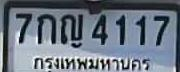1: (135, 15, 145, 44), (115, 14, 124, 44)
4: (91, 14, 107, 44)
7: (15, 12, 31, 43), (153, 15, 168, 45)
A01: (36, 13, 55, 43)
A13: (60, 13, 82, 44)
BKK: (31, 54, 154, 72)
